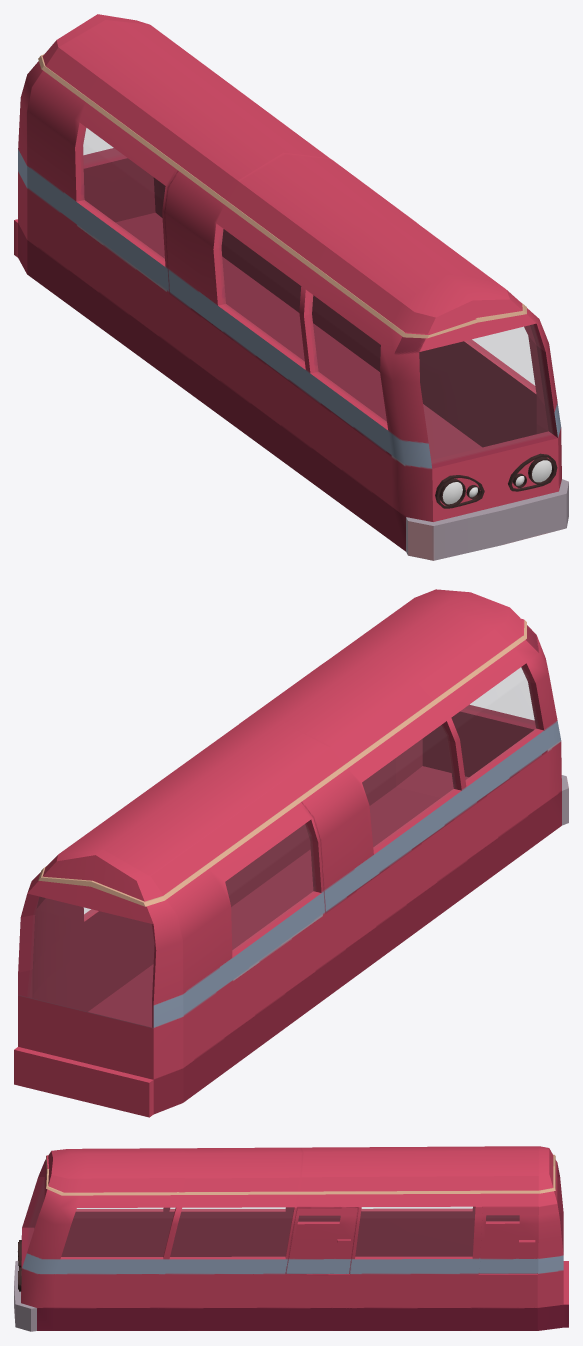
The model's file is train.fbx.
The picture shows the model from 3 angles, top to bottom: view 1: azimuth 30°, elevation 25°; view 2: azimuth 150°, elevation 25°; view 3: azimuth 270°, elevation 25°; orthographic projection. The views are drawn at different scales.
Visible parts, largest first — view 1: pCube37; view 2: pCube37; view 3: pCube37.
Boxes of the visible parts, <box> form: pCube37: <box>14,14,568,560</box>; pCube37: <box>14,589,568,1117</box>; pCube37: <box>14,1146,568,1331</box>.
Bounding box in the file's own units: 4.54 × 6.14 × 19.88.
